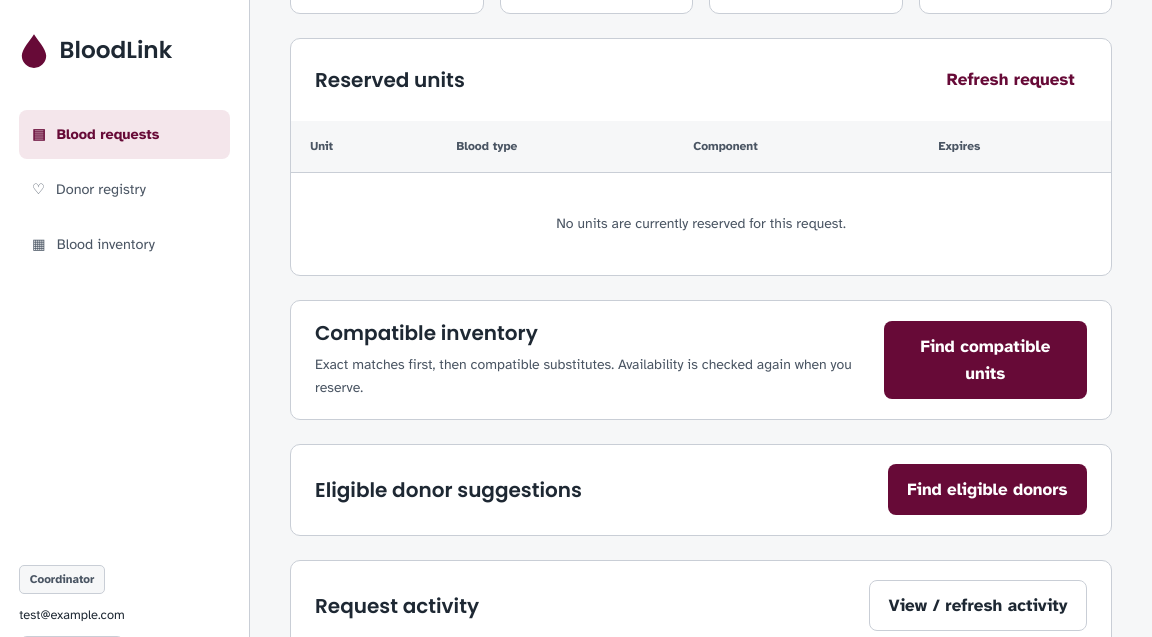
reservation requires confirmation and refreshes persisted request details
(page scrolled)
Click the button "Find compatible units": (985, 360) x1=884 y1=321 x2=1087 y2=400
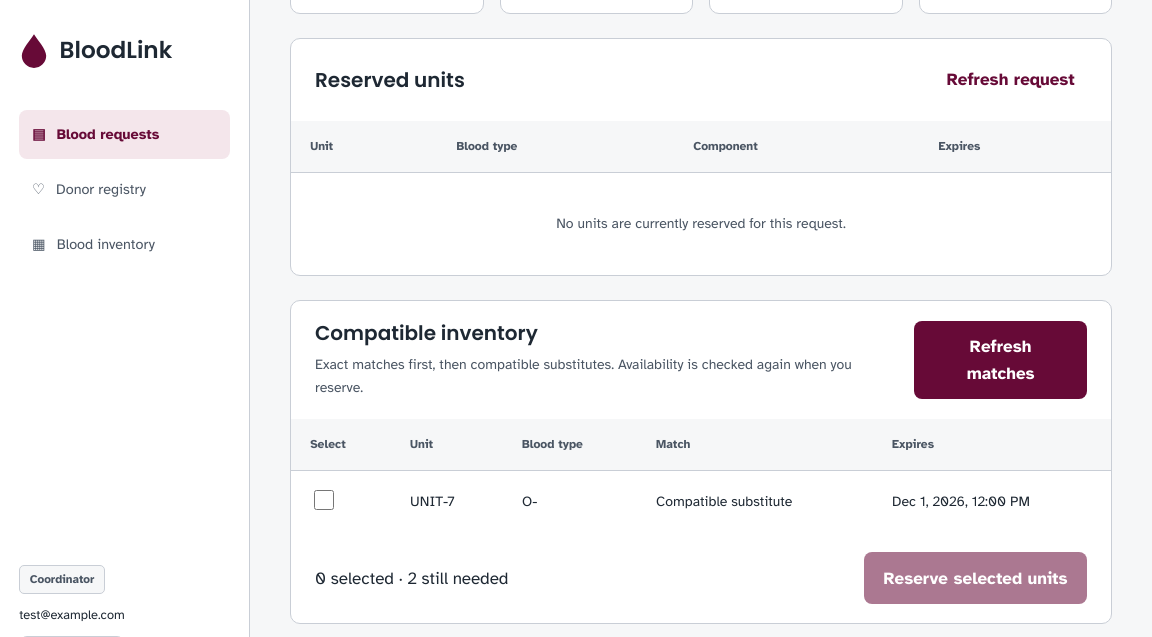
Click the checkbox named "Select UNIT-7": (324, 500) x1=314 y1=490 x2=334 y2=510
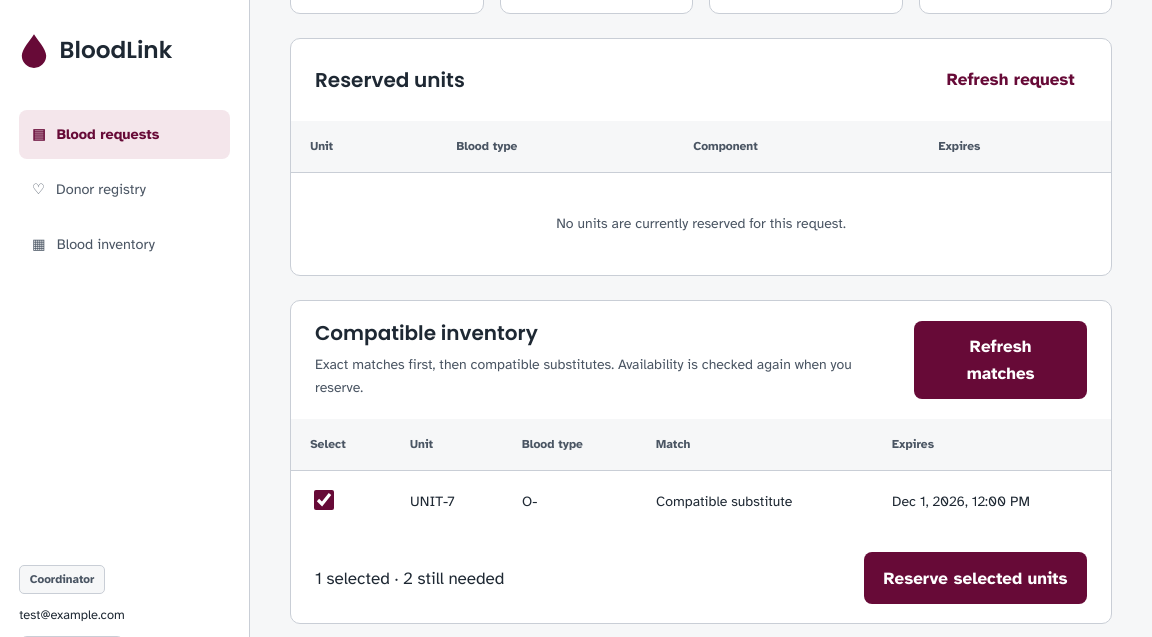
Click the button "Reserve selected units": (976, 578) x1=864 y1=552 x2=1087 y2=604
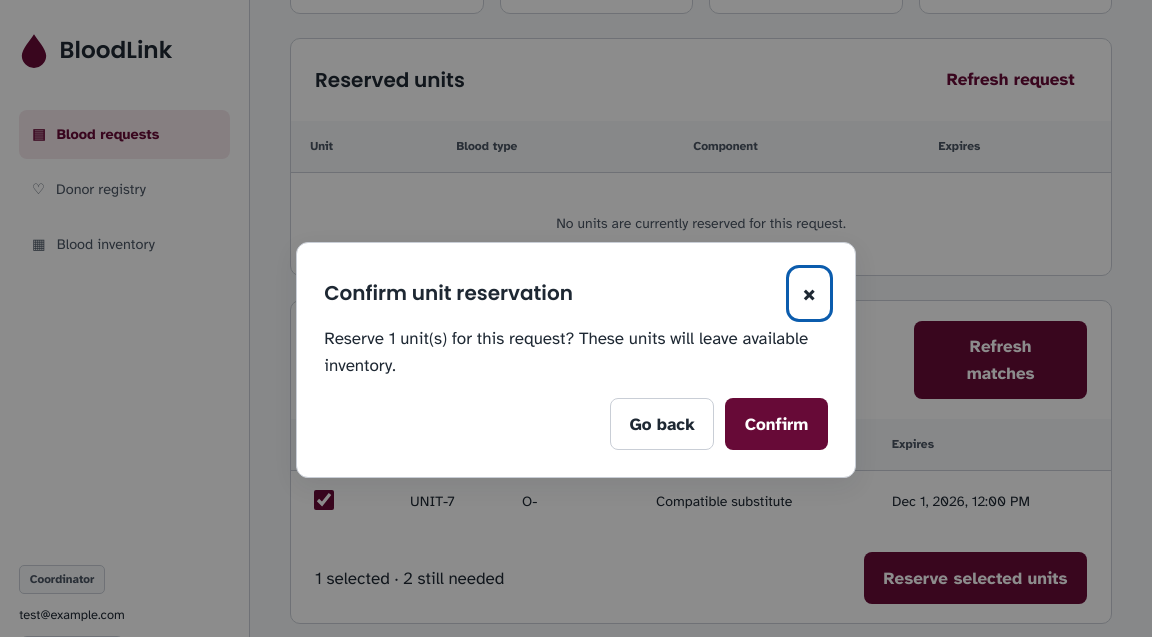
Click the button "Confirm": (777, 424) x1=725 y1=398 x2=828 y2=450
(page scrolled)
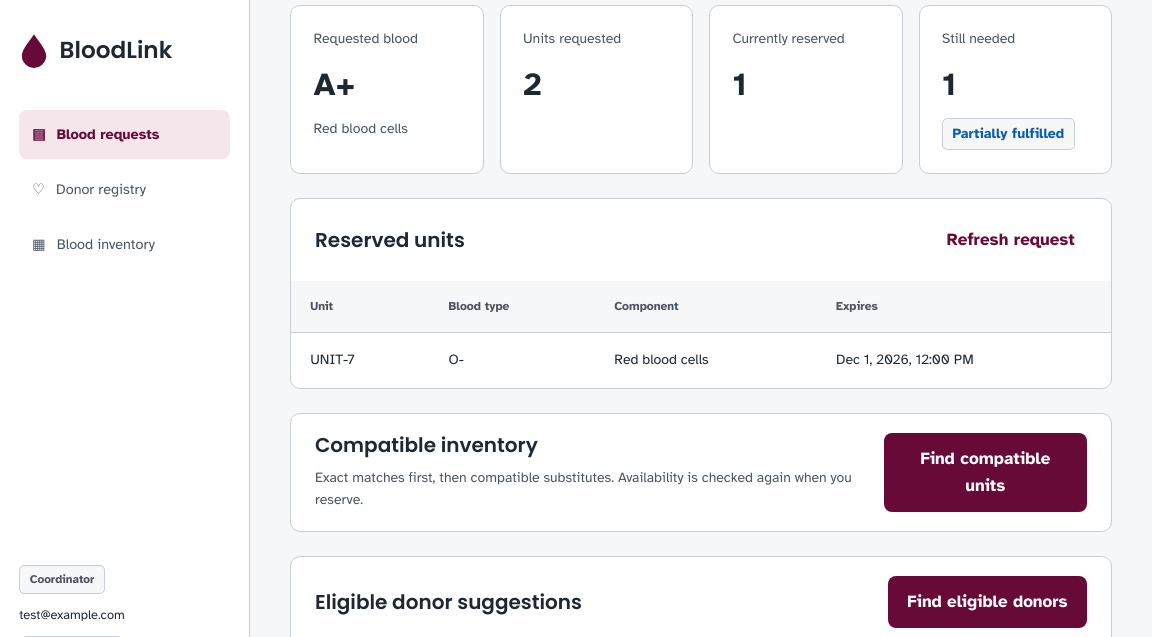
Result: the text "UNIT-7" is shown at x1=291 y1=333 x2=429 y2=388
Result: the text "Partially fulfilled" is shown at x1=942 y1=118 x2=1075 y2=150
